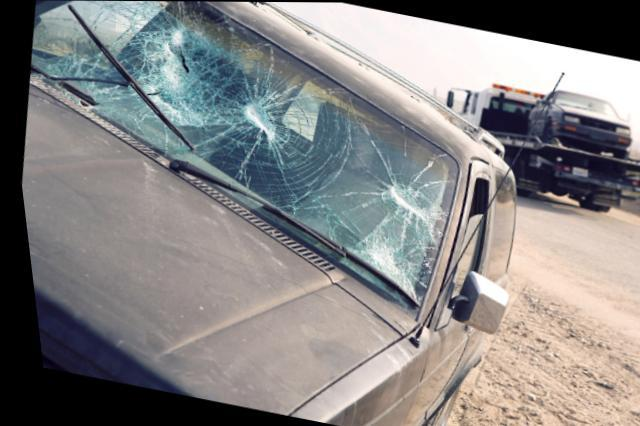glass shatter: (28, 0, 454, 311)
